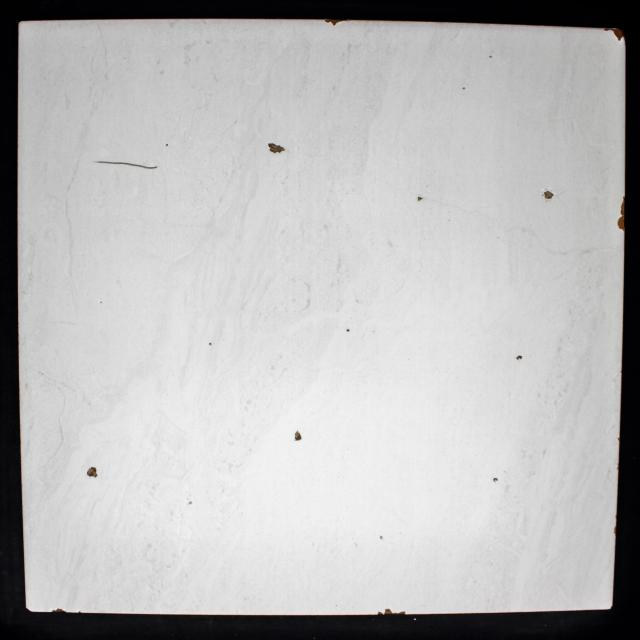edge-chipping: (603, 27, 626, 41), (617, 196, 625, 231), (376, 608, 406, 615), (325, 19, 348, 26), (52, 608, 67, 613), (614, 526, 617, 536)
hole: (268, 142, 285, 154), (87, 466, 98, 478), (544, 190, 554, 199), (294, 431, 302, 441), (417, 196, 423, 202), (516, 356, 522, 360), (493, 478, 498, 482), (208, 342, 212, 346), (462, 86, 466, 90), (165, 143, 168, 147), (346, 329, 350, 332), (380, 536, 383, 540), (489, 56, 492, 58)
line: (92, 160, 158, 170)
